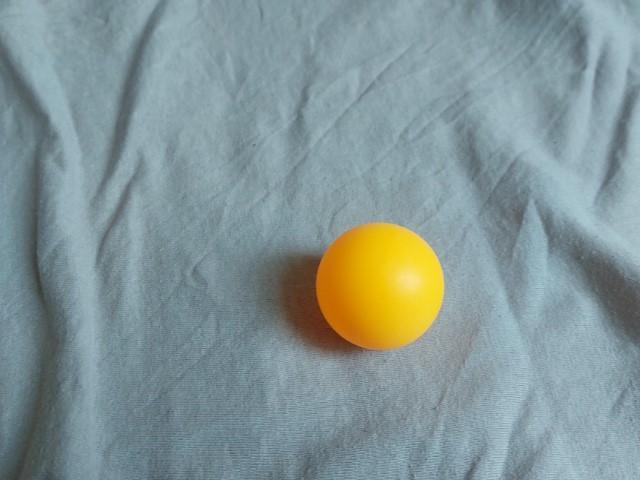oball: (303, 213, 455, 360)
